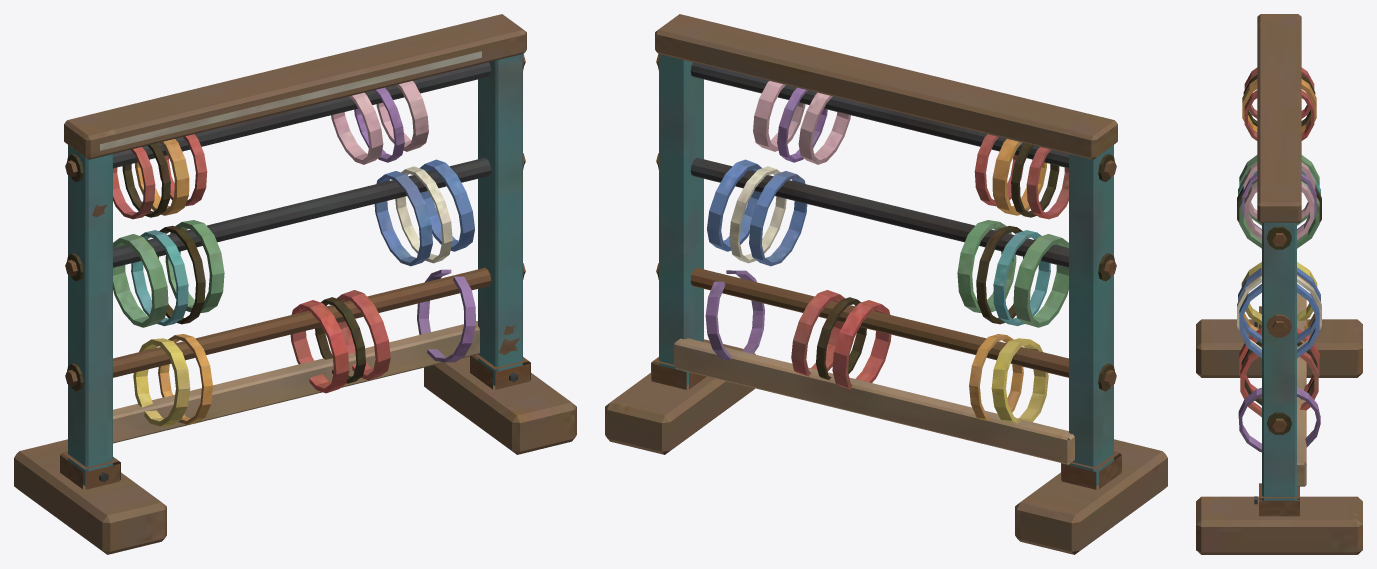
The model's file is W30_bangle_rack.glb.
The picture shows the model from 3 angles, left to right: view 1: azimuth 30°, elevation 25°; view 2: azimuth 150°, elevation 25°; view 3: azimuth 270°, elevation 25°; orthographic projection. The views are drawn at different scales.
Visible parts, largest first — view 1: Splayed-end timber foot; view 2: Splayed-end timber foot; view 3: Splayed-end timber foot.
Part boxes in pixels (x1,y1,x2,y2): Splayed-end timber foot: (14, 14, 576, 554); Splayed-end timber foot: (605, 14, 1167, 554); Splayed-end timber foot: (1196, 14, 1362, 554).
Size of the model in its own units: 1.2 by 0.945 by 0.412.
16 materials, 16 textured.
